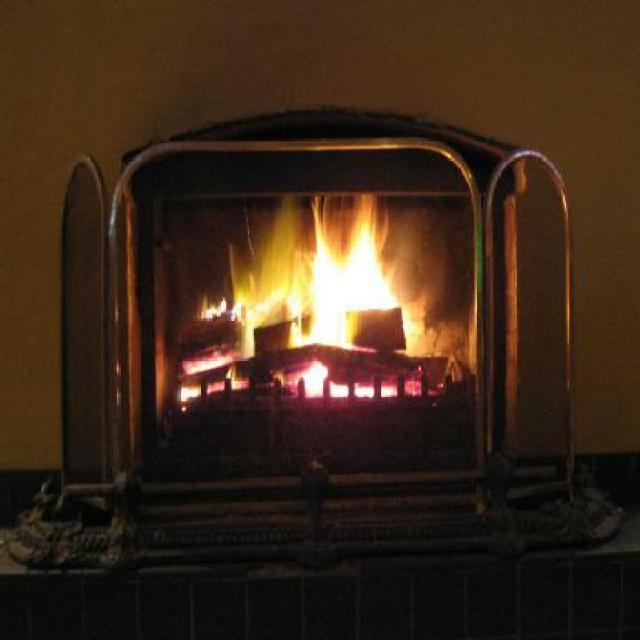Fire: (314, 198, 402, 308), (312, 304, 352, 348), (286, 280, 312, 346), (402, 302, 432, 356), (320, 384, 406, 396), (240, 300, 256, 356), (301, 368, 327, 396), (182, 356, 236, 369), (200, 302, 232, 318), (265, 286, 284, 312), (178, 386, 204, 402)
